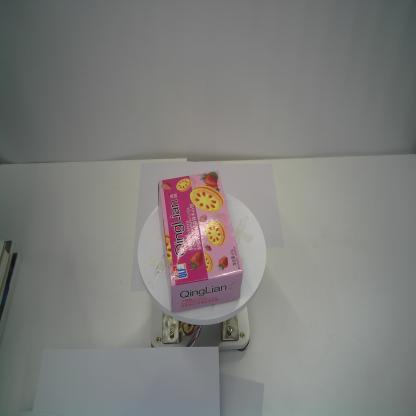Dessert: (156, 167, 244, 315)
